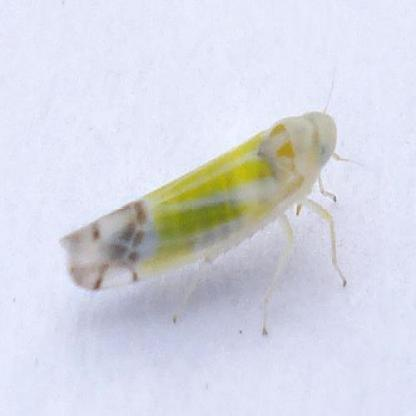green-leafhopper: (64, 110, 340, 295)
